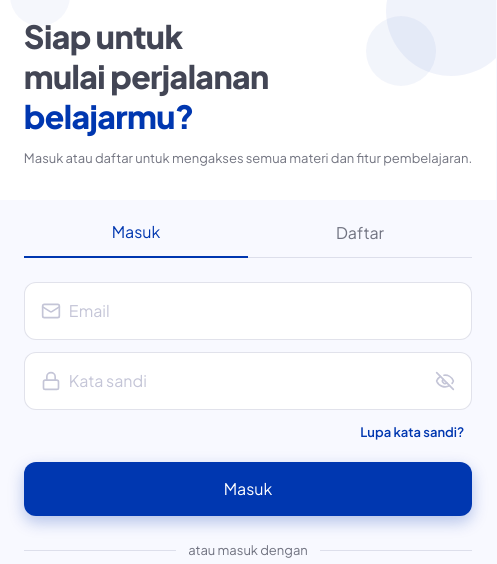
Test: AuthScreen › tab Daftar bisa dibuka
Click the tab "Daftar". click: (360, 233)
box: [248, 208, 472, 258]
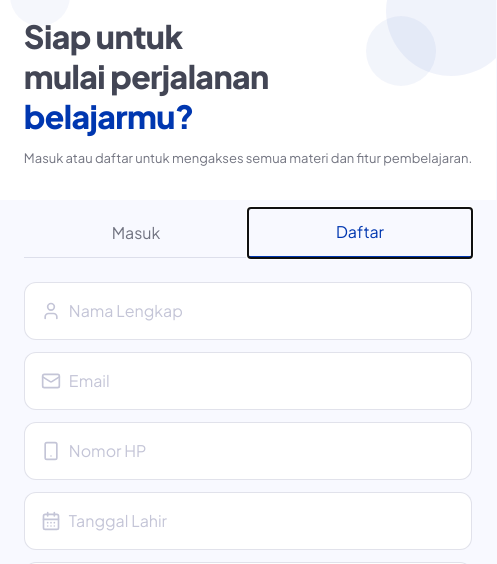
Now the field with placeholder "Nama Lengkap" is shown, box [69, 283, 455, 339]
